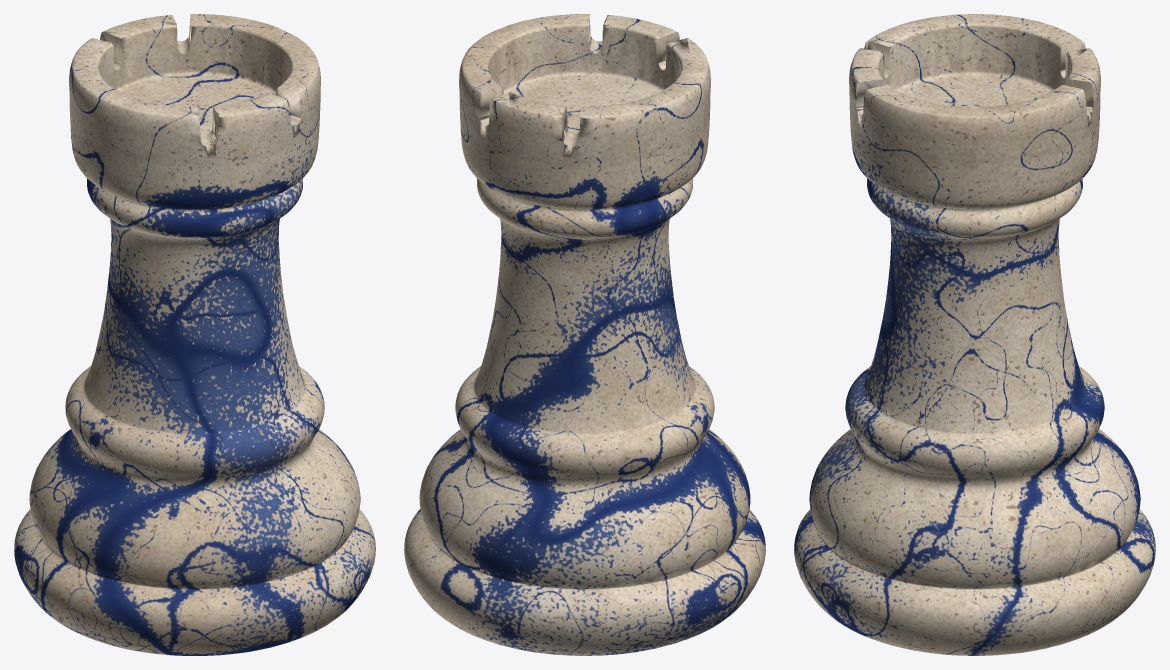
Rendered from rook-white-hd.glb.
The picture shows the model from 3 angles, left to right: view 1: azimuth 30°, elevation 25°; view 2: azimuth 150°, elevation 25°; view 3: azimuth 270°, elevation 25°; orthographic projection.
Visible parts, largest first — view 1: Cobalt Vein white rook; view 2: Cobalt Vein white rook; view 3: Cobalt Vein white rook.
Part boxes in pixels (bbox=[...]): Cobalt Vein white rook: bbox=[14, 14, 375, 655]; Cobalt Vein white rook: bbox=[404, 14, 765, 655]; Cobalt Vein white rook: bbox=[794, 14, 1155, 655].
Size of the model in its own units: 0.5961 by 0.96 by 0.5963.
1 material, 1 textured.
